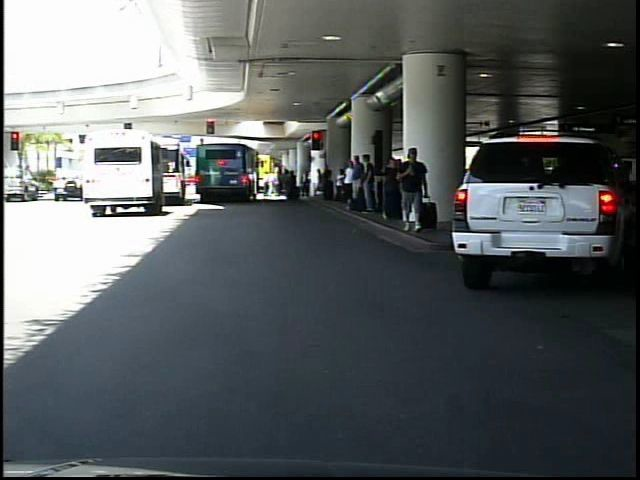person: (396, 145, 430, 237)
